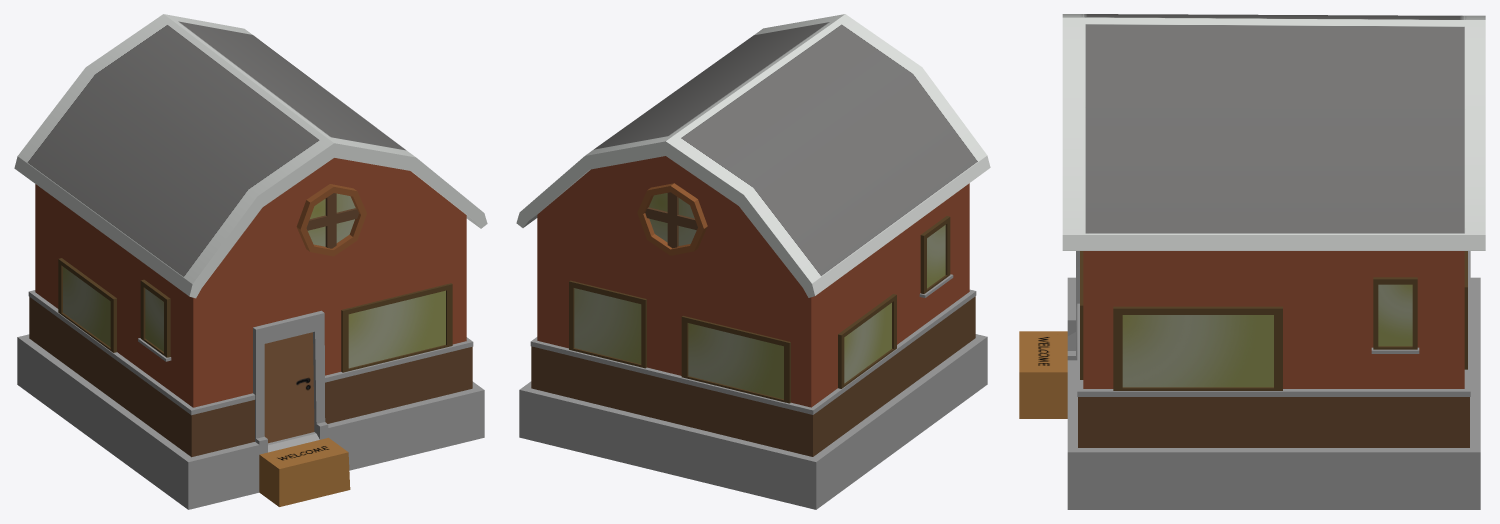
The model's file is tiny-house.fbx.
The picture shows the model from 3 angles, left to right: view 1: azimuth 30°, elevation 25°; view 2: azimuth 150°, elevation 25°; view 3: azimuth 270°, elevation 25°; orthographic projection. The views are drawn at different scales.
Visible parts, largest first — view 1: SM_House; view 2: SM_House; view 3: SM_House.
Part boxes in pixels (<box>): SM_House: <box>14,14,487,509</box>; SM_House: <box>516,14,990,509</box>; SM_House: <box>1019,14,1485,509</box>.
Size of the model in its own units: 467 by 498 by 523.
